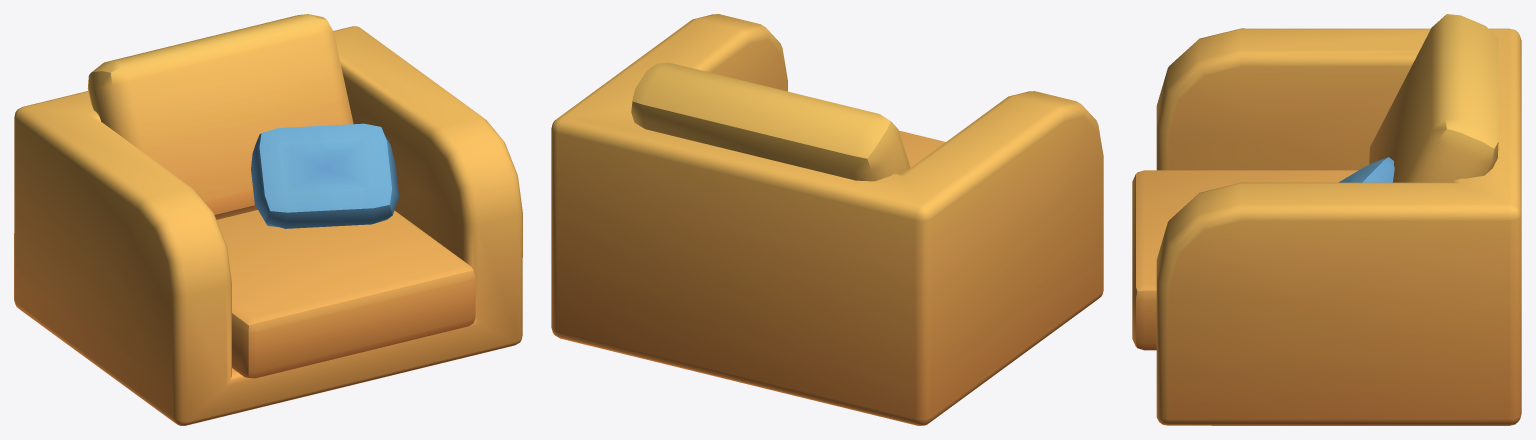
Rendered from armchair-stylized-001.glb.
3 renders of one model, left to right at view 1: azimuth 30°, elevation 25°; view 2: azimuth 150°, elevation 25°; view 3: azimuth 270°, elevation 25°, orthographic. The views are drawn at different scales.
Visible parts, largest first — view 1: armchair_pillows; view 2: armchair_pillows; view 3: armchair_pillows.
Part boxes in pixels (bbox=[...]): armchair_pillows: bbox=[14, 14, 522, 425]; armchair_pillows: bbox=[551, 14, 1103, 425]; armchair_pillows: bbox=[1132, 14, 1521, 425].
Bounding box in the file's own units: 1.8 × 1.22 × 1.6.
Materials: 1 (1 with a texture image).
